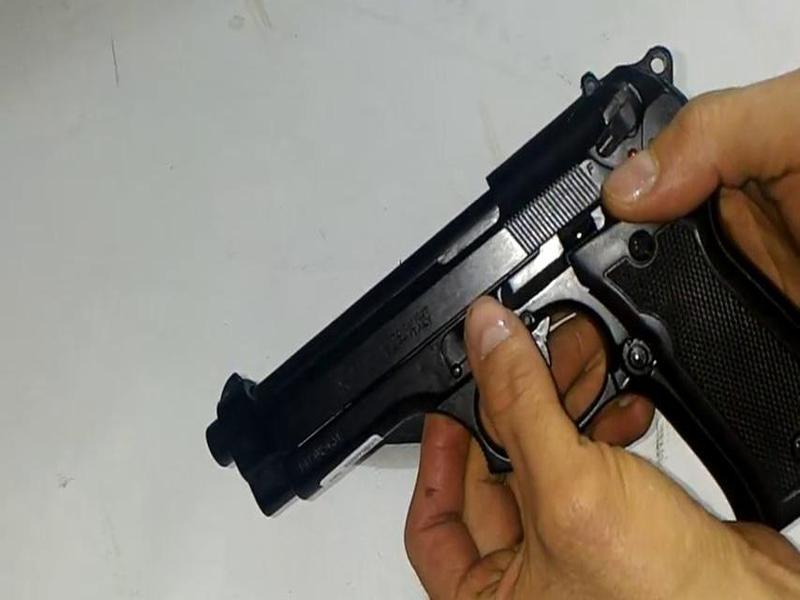Pistola: (211, 51, 800, 532)
